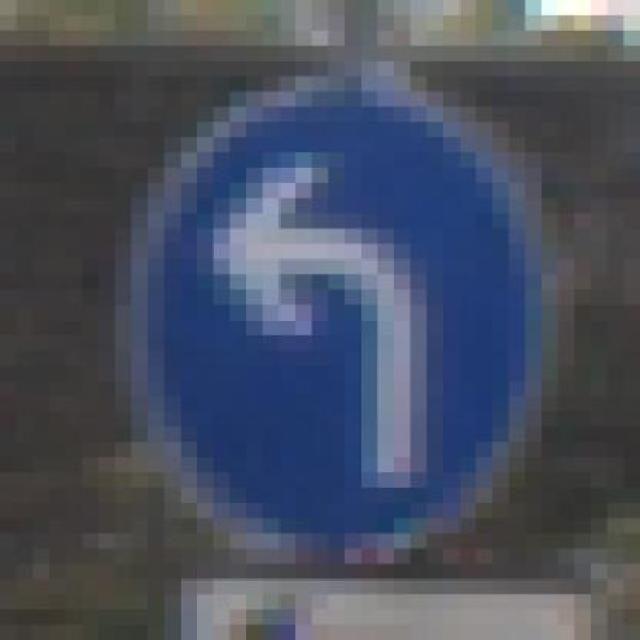Turn left ahead: (115, 30, 574, 564)
